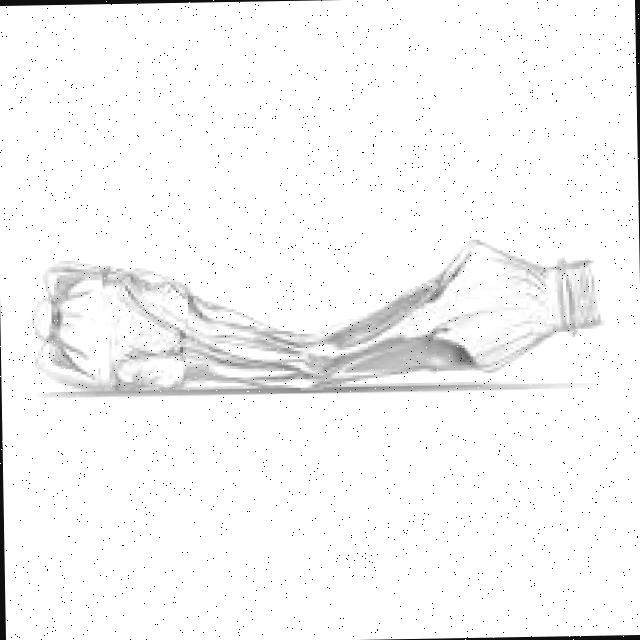bottle: (23, 217, 616, 420)
